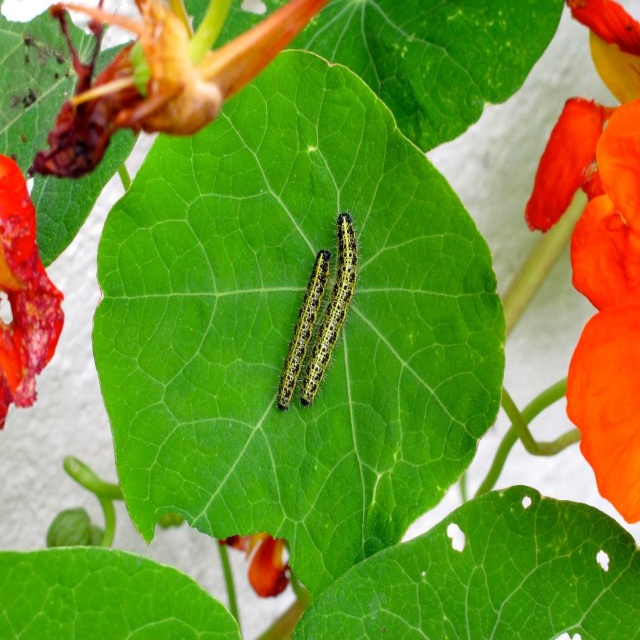Caterpillar: (292, 201, 365, 409), (273, 245, 338, 411)
